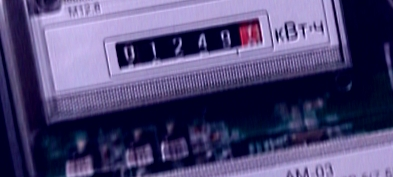0: (122, 41, 138, 63)
1: (147, 38, 160, 58)
2: (171, 35, 187, 56)
4: (196, 31, 209, 51)
7: (243, 19, 257, 40)
9: (219, 28, 234, 50)
screen: (95, 11, 274, 78)
